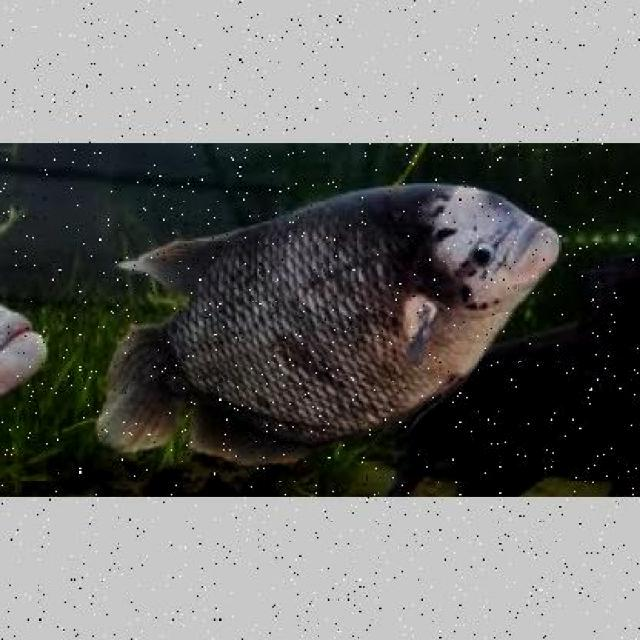gurame: (119, 181, 558, 450)
